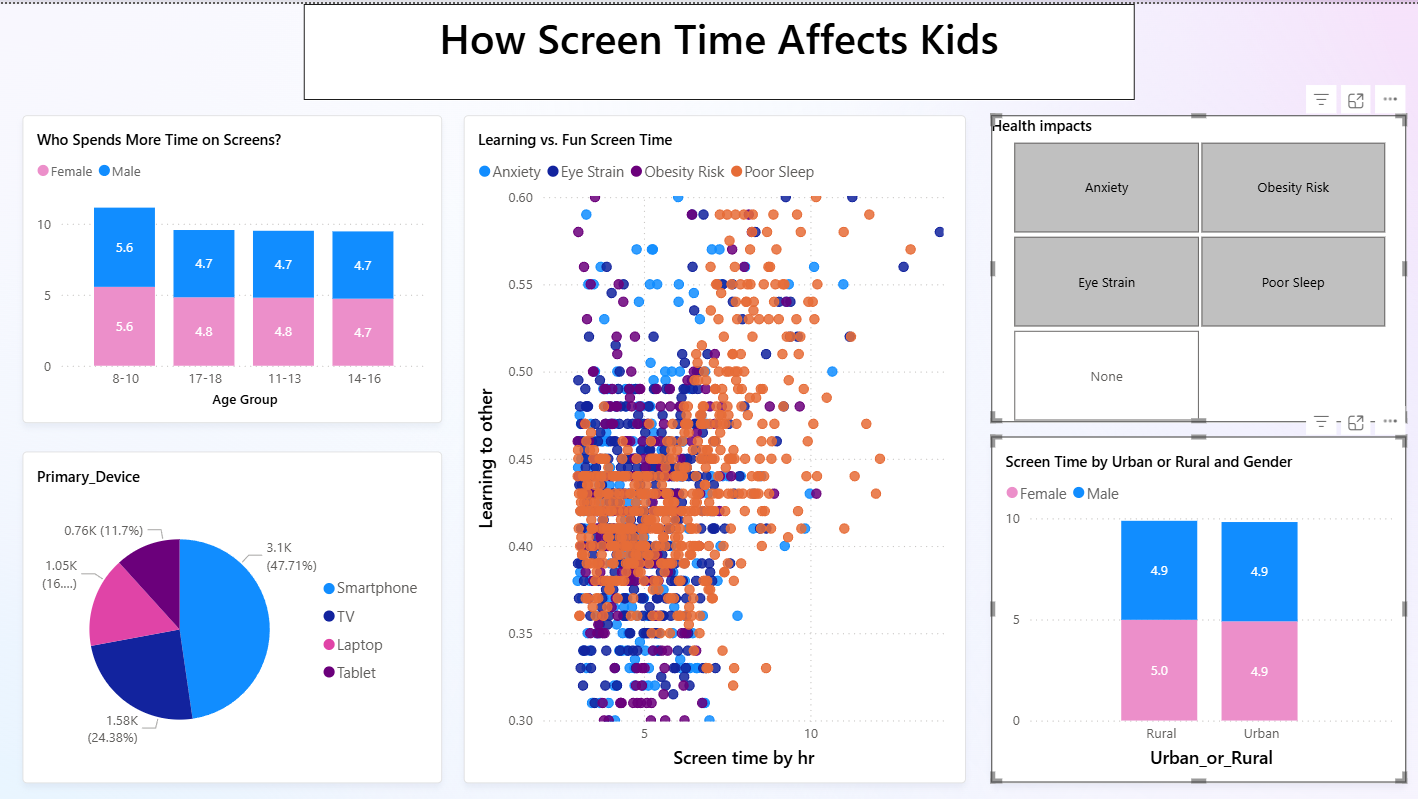

Layout of this report page (visuals, bound fields, positions):
{"tool":"powerbi","page":{"name":"Page 1","canvas":[1280,720],"ordinal":0},"visuals":[{"type":"columnChart","title":"Who Spends More Time on Screens?","fields":{"Category":["Indian_Kids_Screen_Time.Age Group"],"Y":["Indian_Kids_Screen_Time.Avg Screen Time"],"Series":["Indian_Kids_Screen_Time.Gender"]},"box":[20.3,100.3,378.7,277.3],"z":0},{"type":"pieChart","title":"Primary_Device","fields":{"Category":["Indian_Kids_Screen_Time.Primary_Device"],"Y":["CountNonNull(Indian_Kids_Screen_Time.Primary_Device)"]},"box":[20.6,403.4,378.7,299.1],"z":1000},{"type":"scatterChart","title":"Learning vs. Fun Screen Time","fields":{"X":["Indian_Kids_Screen_Time.Avg_Daily_Screen_Time_hr"],"Y":["Median(Indian_Kids_Screen_Time.Educational_to_Recreational_Ratio)"],"Series":["Indian_Kids_Screen_Time.Health_Impacts.1"]},"box":[418.5,100.2,452.8,602.4],"z":2000},{"type":"columnChart","title":"Screen Time by Urban or Rural and Gender","fields":{"Category":["Indian_Kids_Screen_Time.Urban_or_Rural"],"Y":["Indian_Kids_Screen_Time.Avg Screen Time"],"Series":["Indian_Kids_Screen_Time.Gender"]},"box":[893.3,389.7,374.6,312.9],"z":3000},{"type":"textbox","box":[274,0,748.9,86.8],"z":4000},{"type":"slicer","title":"Health impacts","fields":{"Values":["Indian_Kids_Screen_Time.Health_Impacts.1"]},"box":[893.6,100.4,374.5,277.4],"z":5000}]}

Visuals, with their boxes on the page's 1280x720 design canvas (x1, y1, x2, y2). These are canvas units, not pixel positions in the 1418x799 screenshot, which may show the page scaled, cropped or inside an application window:
"Who Spends More Time on Screens?" columnChart: (x1=20, y1=100, x2=399, y2=378)
"Primary_Device" pieChart: (x1=21, y1=403, x2=399, y2=702)
"Learning vs. Fun Screen Time" scatterChart: (x1=418, y1=100, x2=871, y2=703)
"Screen Time by Urban or Rural and Gender" columnChart: (x1=893, y1=390, x2=1268, y2=703)
textbox: (x1=274, y1=0, x2=1023, y2=87)
"Health impacts" slicer: (x1=894, y1=100, x2=1268, y2=378)
